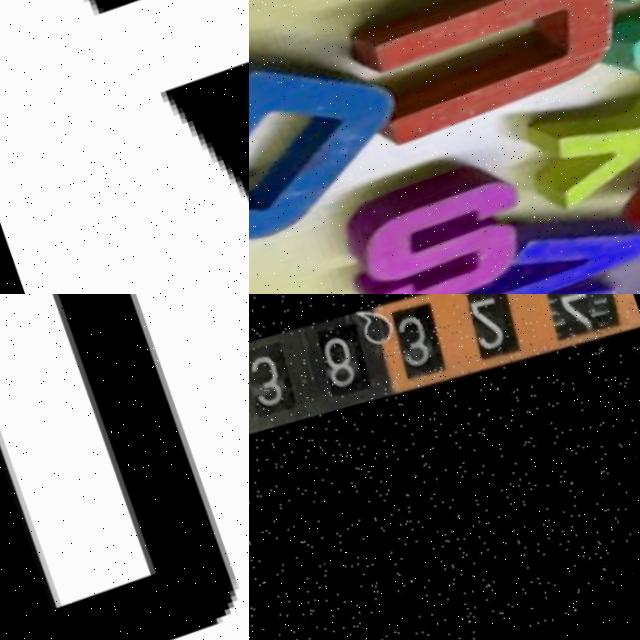0: (0, 294, 249, 640)
2: (460, 294, 515, 356), (546, 294, 604, 346)
3: (386, 308, 443, 377), (249, 345, 296, 416)
5: (0, 0, 249, 294)
8: (309, 326, 371, 400)
D: (249, 17, 420, 284)
H: (501, 213, 640, 294)
O: (601, 77, 640, 264)
U: (340, 0, 640, 156)
